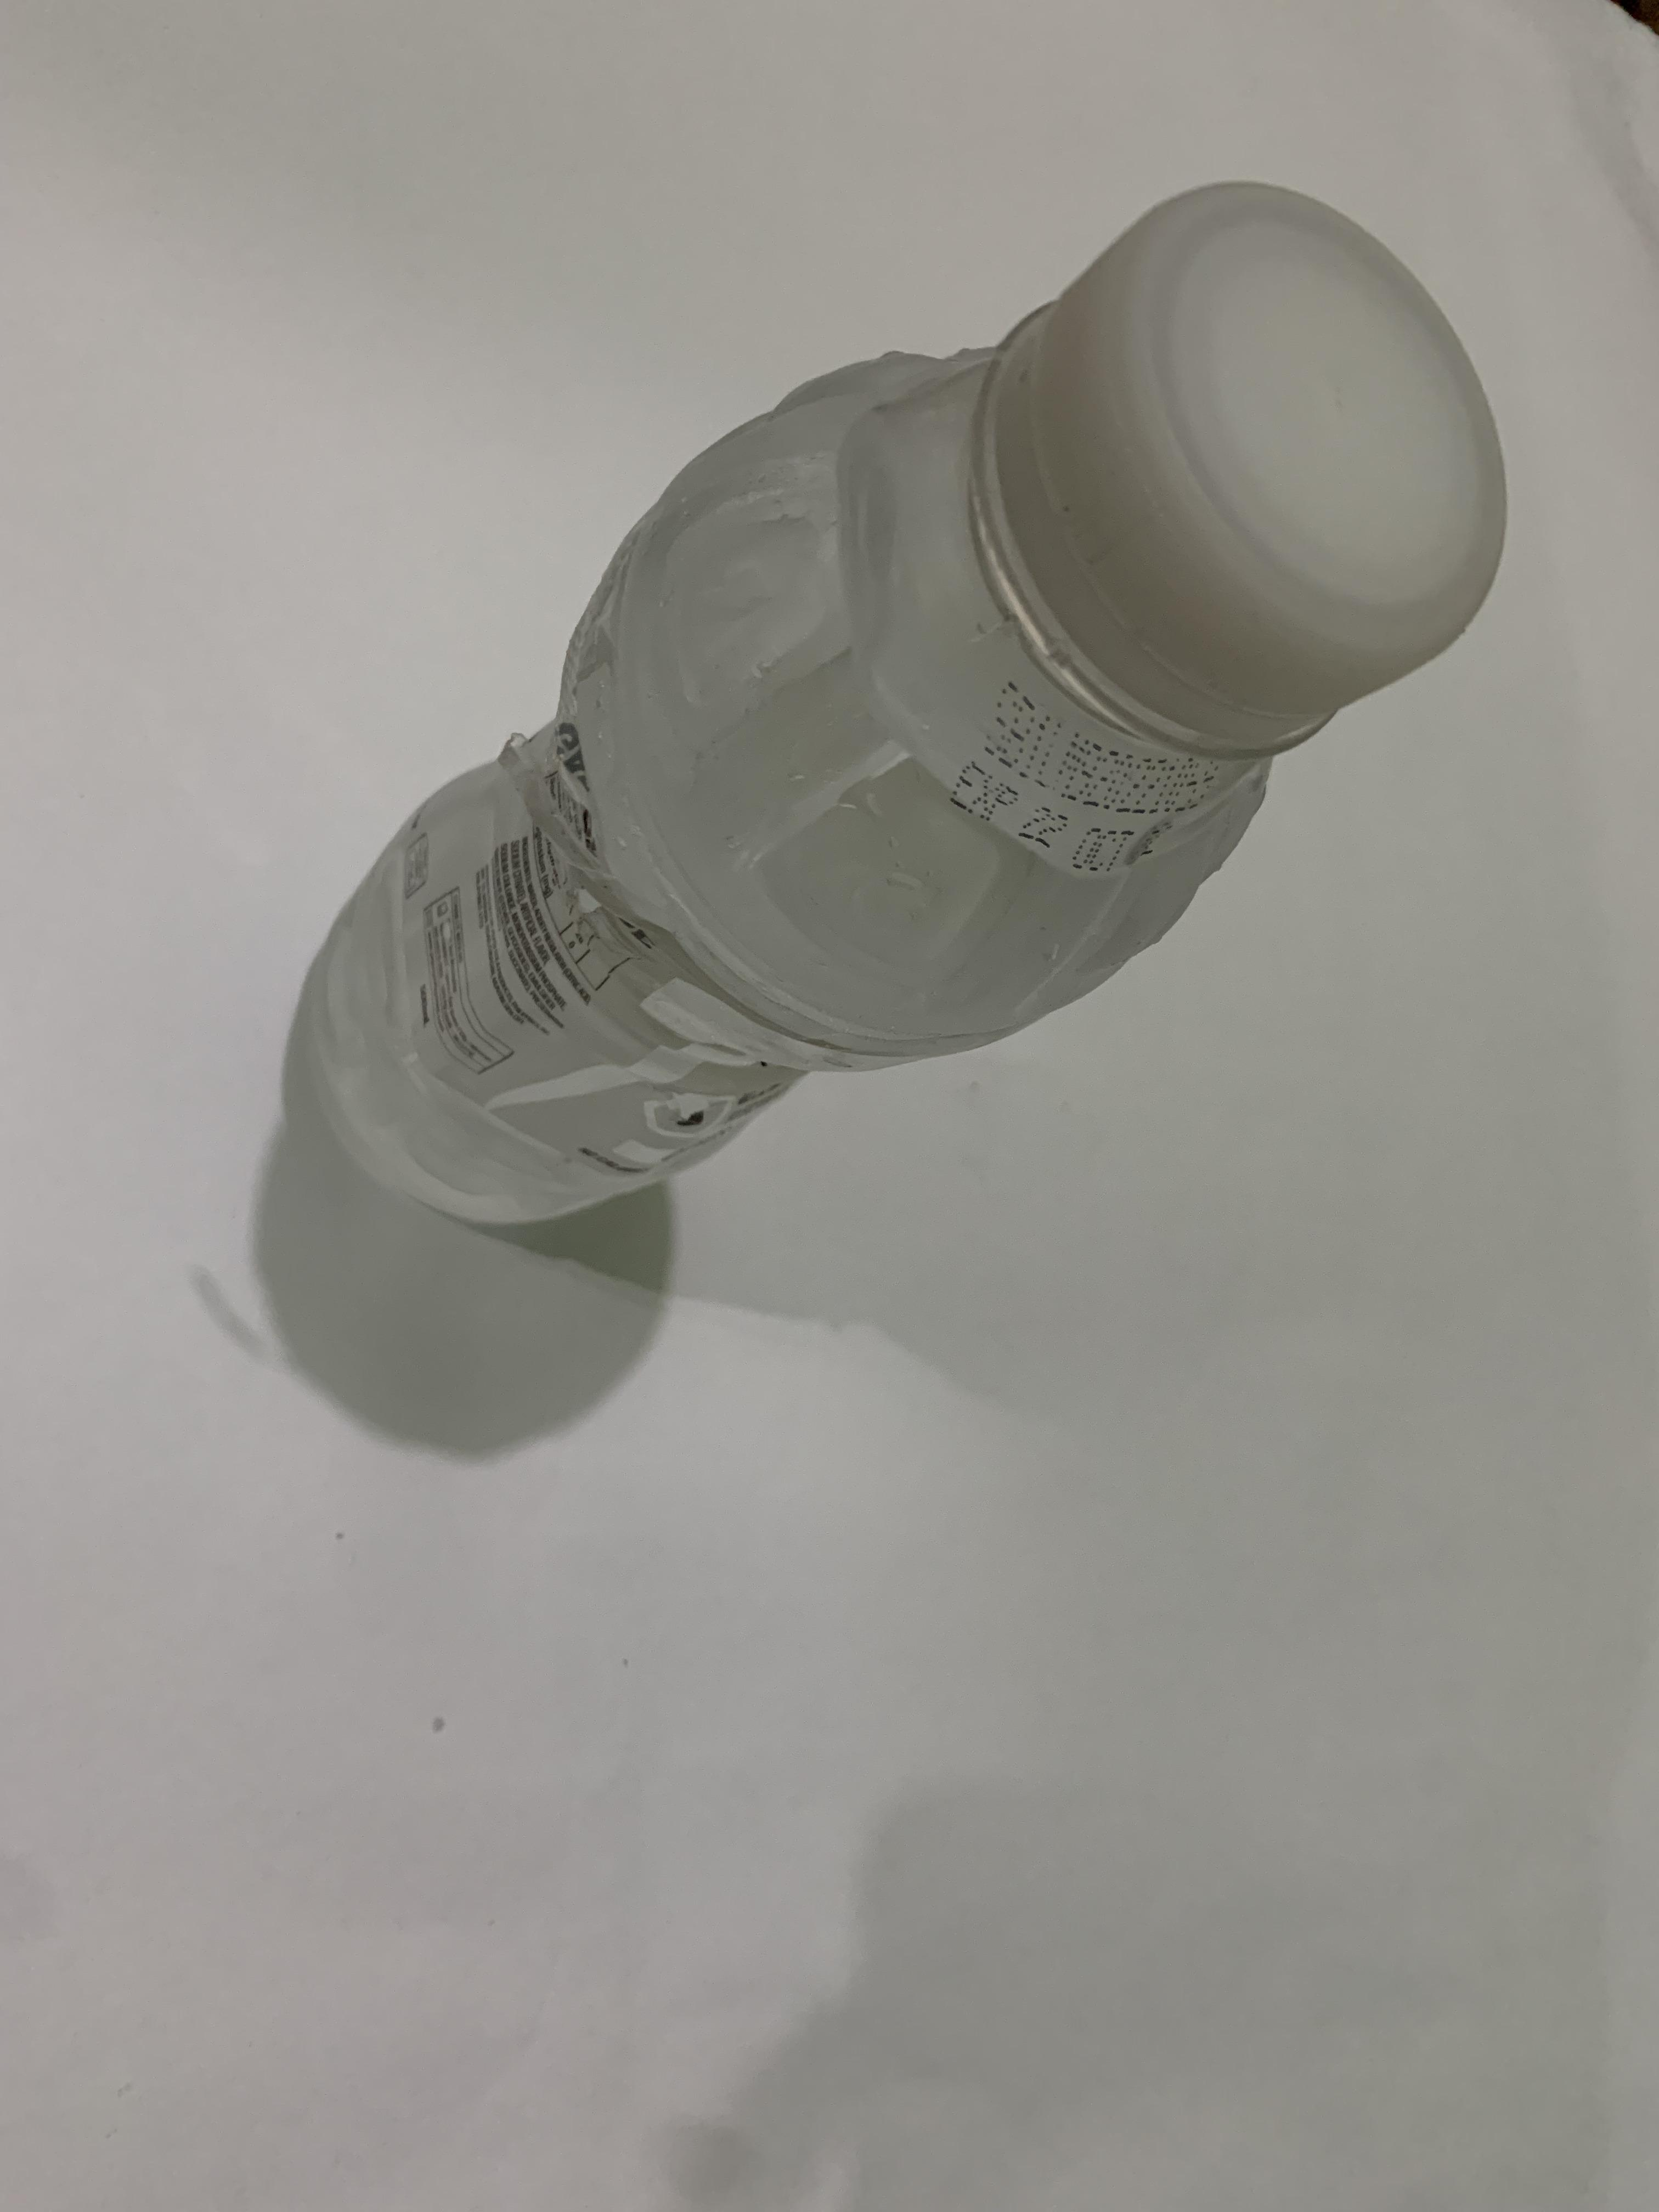bottle: (0, 165, 690, 1245)
